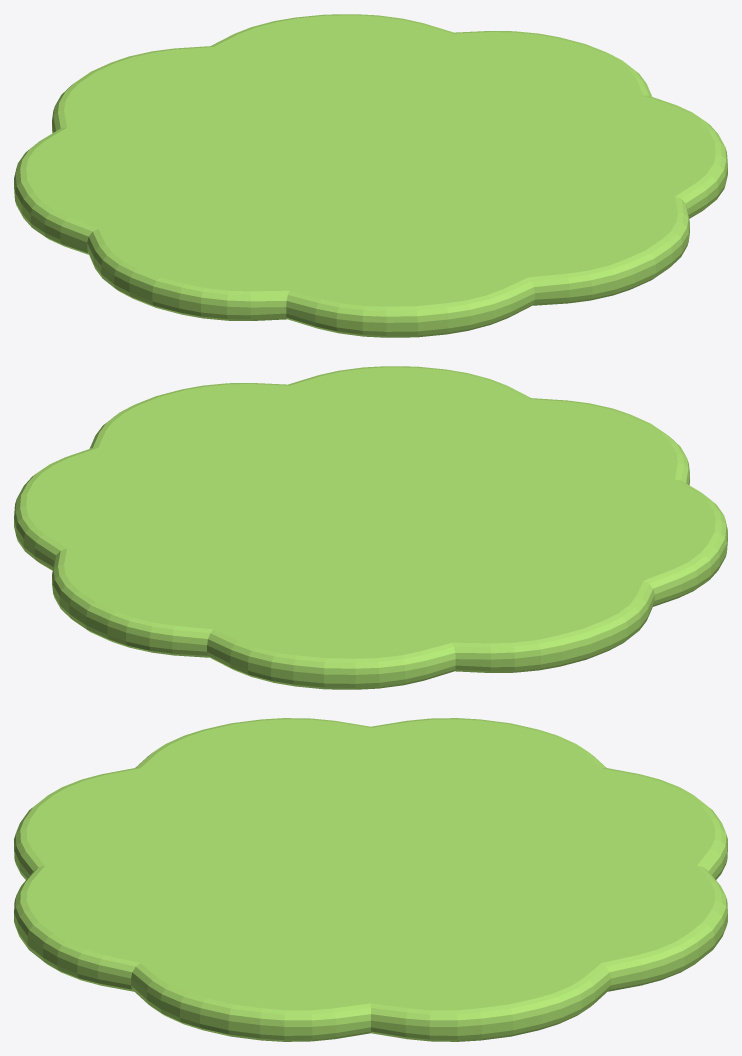
Rendered from Lilypad4.fbx.
The picture shows the model from 3 angles, top to bottom: view 1: azimuth 30°, elevation 25°; view 2: azimuth 150°, elevation 25°; view 3: azimuth 270°, elevation 25°; orthographic projection. The views are drawn at different scales.
Parts seen in each view (by area): view 1: Cylinder.001; view 2: Cylinder.001; view 3: Cylinder.001.
Part boxes in pixels (<box>): Cylinder.001: <box>14,14,727,337</box>; Cylinder.001: <box>14,366,727,689</box>; Cylinder.001: <box>14,718,727,1041</box>.
Bounding box in the file's own units: 370 × 17.4 × 370.
